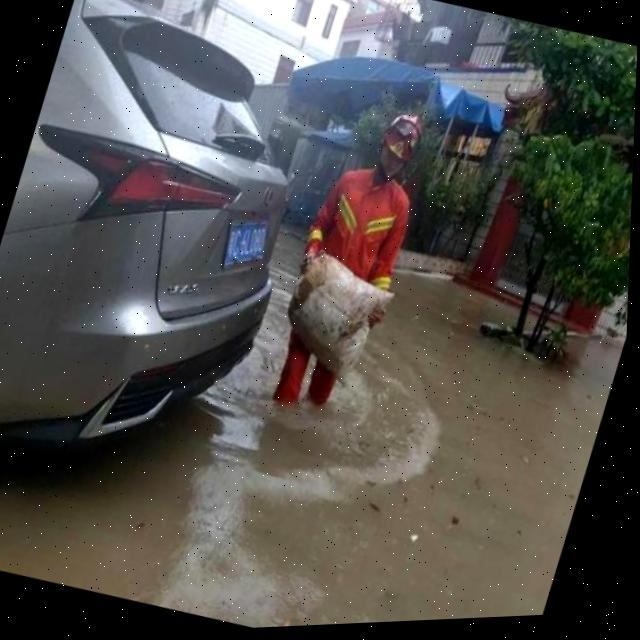rescuer: (240, 69, 470, 454)
